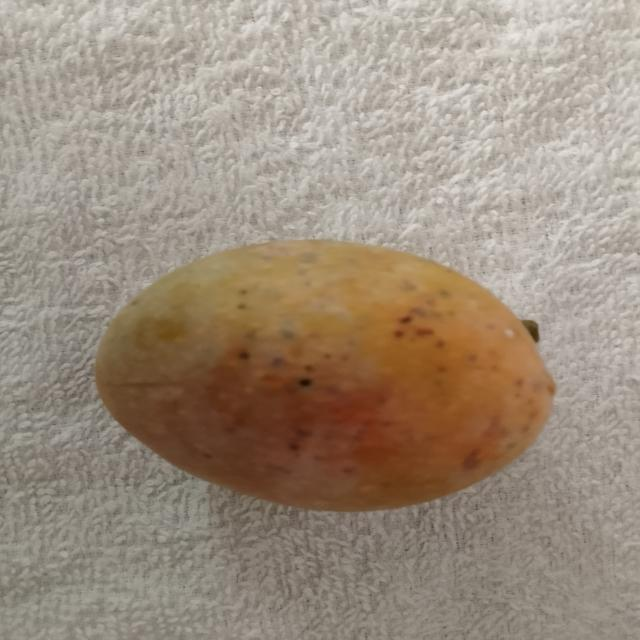mango: (96, 241, 554, 510)
